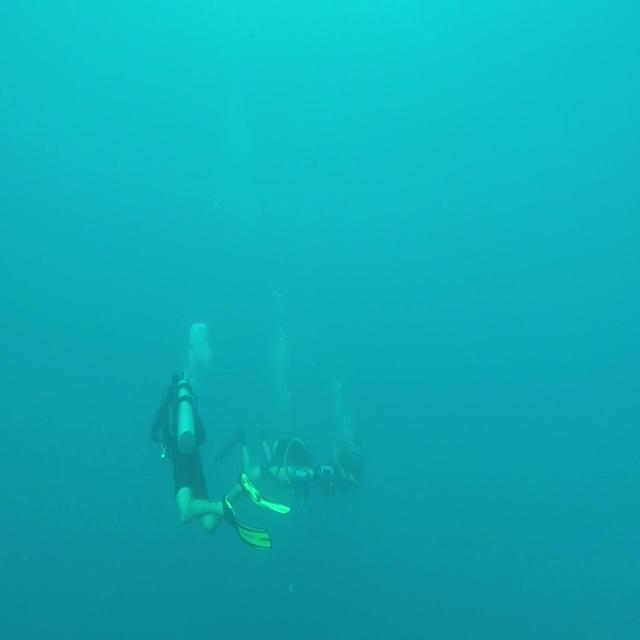human: (149, 370, 276, 549), (214, 427, 335, 513)
